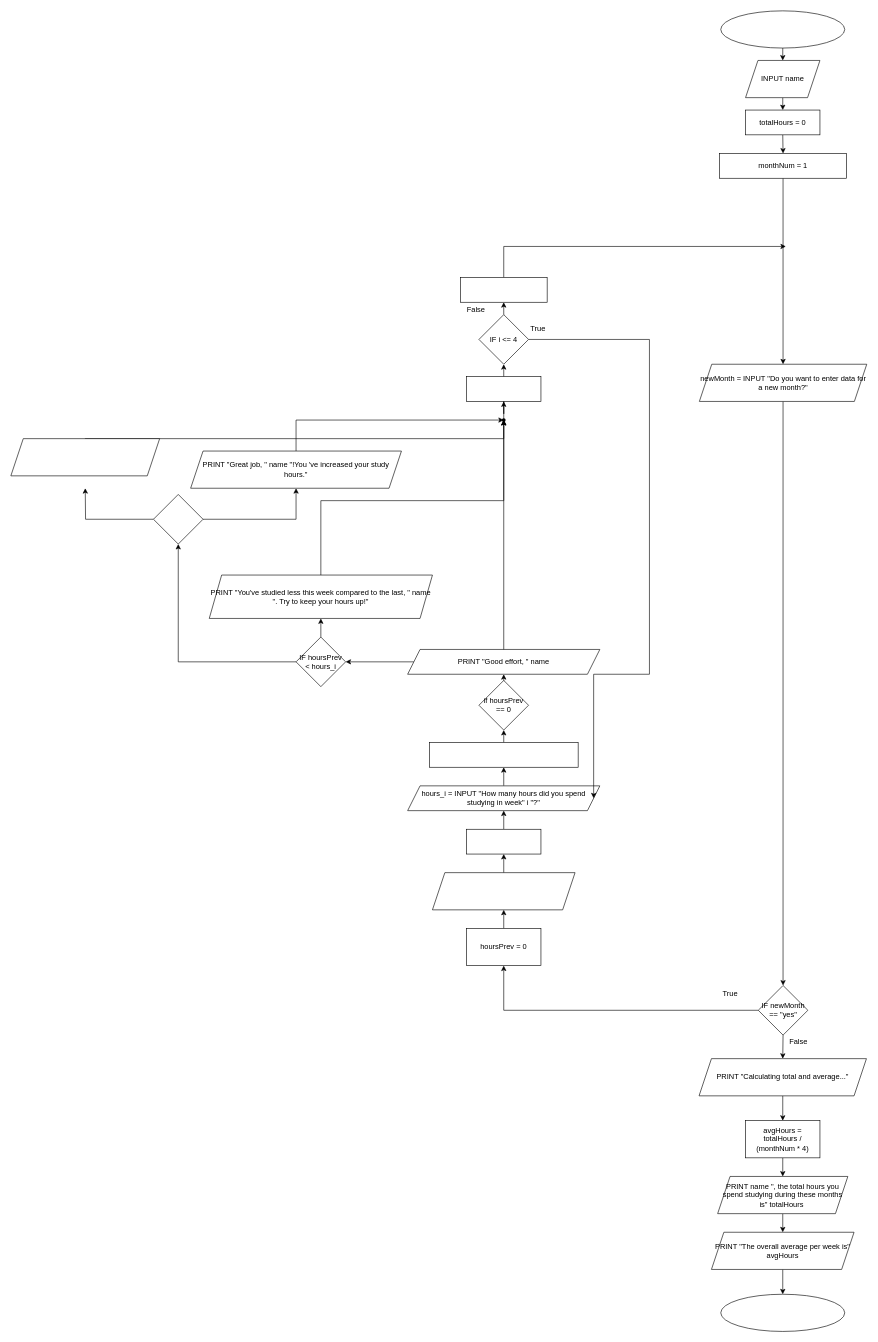
This 878x1342 diagram has some shape labels left out. Each missing label, with the centre of its shape:
End_StudyHours: (x=782, y=1312)
i += 1: (x=503, y=388)
i = 1: (x=503, y=841)
IF hoursPrev > hours_i: (x=178, y=519)
monthNum += 1: (x=503, y=289)
PRINT "Entering data for month" monthNum: (x=503, y=891)
PRINT "Good consistency, " name "! Keep it up!": (x=85, y=457)
Start_StudyHours: (x=782, y=29)
totalHours += hours_i: (x=503, y=754)
